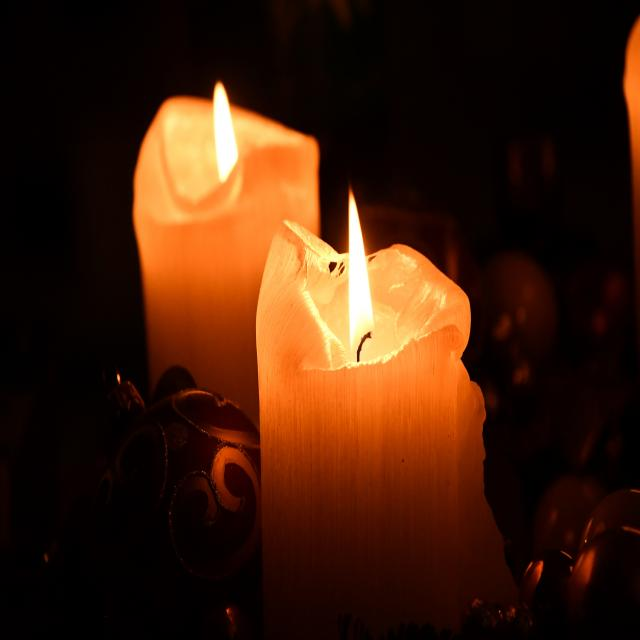fire: (334, 172, 382, 376), (208, 68, 235, 192)
